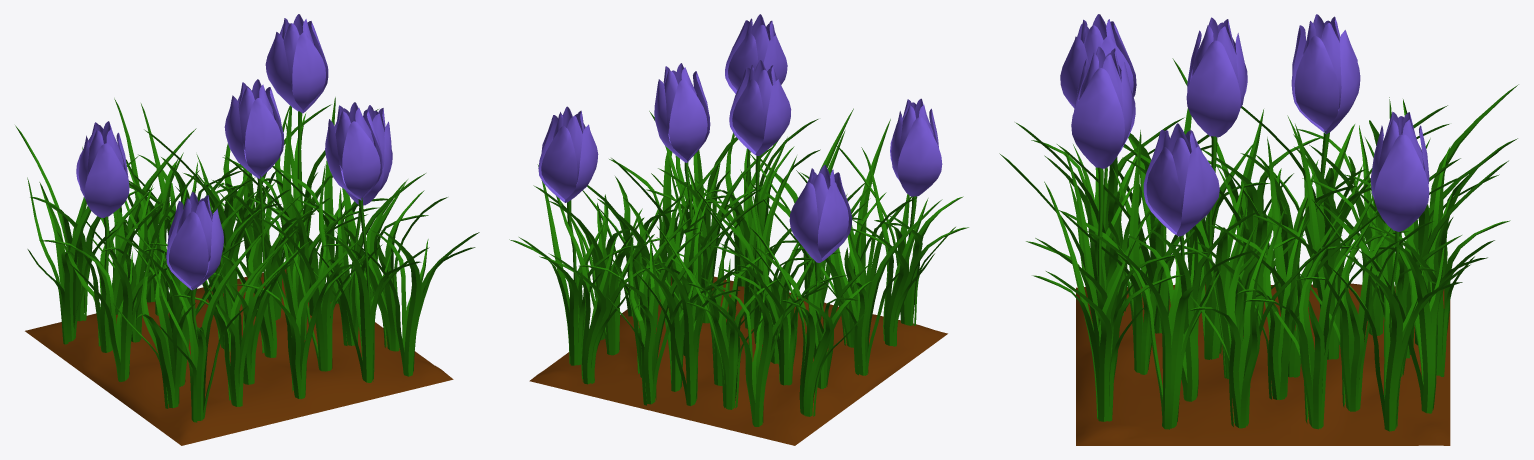
File: purple-tulip-p3-bloom.glb
3 renders of one model, left to right at view 1: azimuth 30°, elevation 25°; view 2: azimuth 150°, elevation 25°; view 3: azimuth 270°, elevation 25°, orthographic. The views are drawn at different scales.
Visible parts, largest first — view 1: 3_nft_bloom; view 2: 3_nft_bloom; view 3: 3_nft_bloom.
Part boxes in pixels (box(x1,y1,x2,y2)): 3_nft_bloom: box(15, 14, 479, 445); 3_nft_bloom: box(509, 14, 968, 445); 3_nft_bloom: box(999, 14, 1518, 445).
Bounding box in the file's own units: 0.8884 × 0.7071 × 0.9749.
